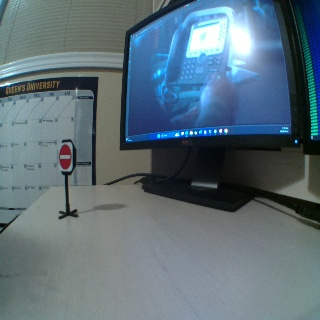sign_noentry: (56, 142, 72, 170)
